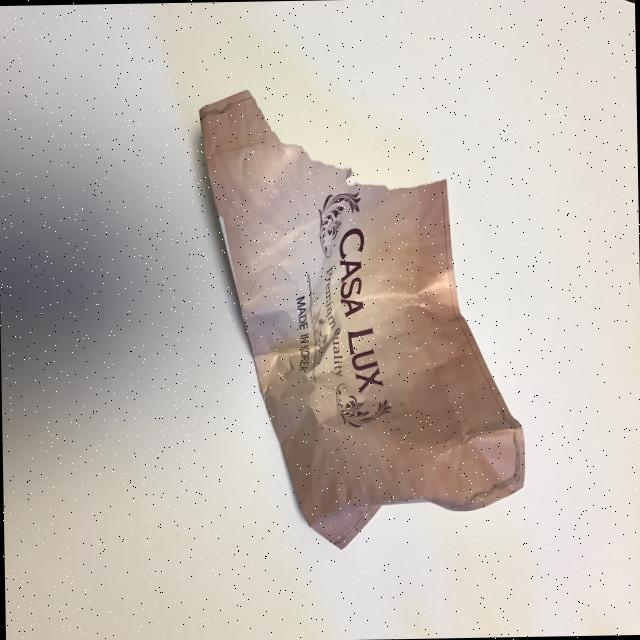paper: (197, 84, 527, 552)
